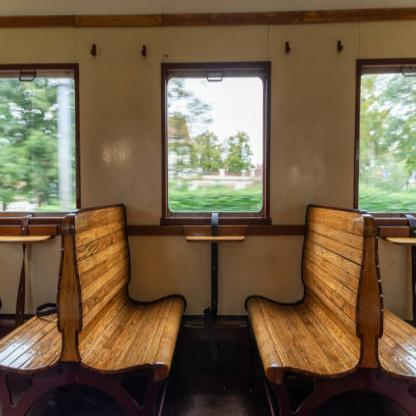Window: (161, 61, 273, 221)
